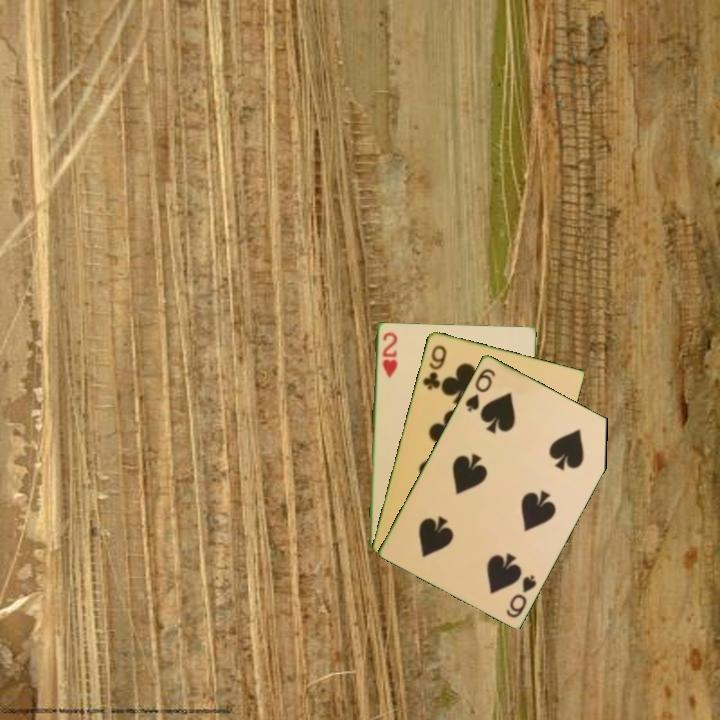2h: (379, 329, 400, 381)
6s: (461, 364, 498, 414), (502, 571, 539, 620)
9c: (419, 341, 449, 393)
